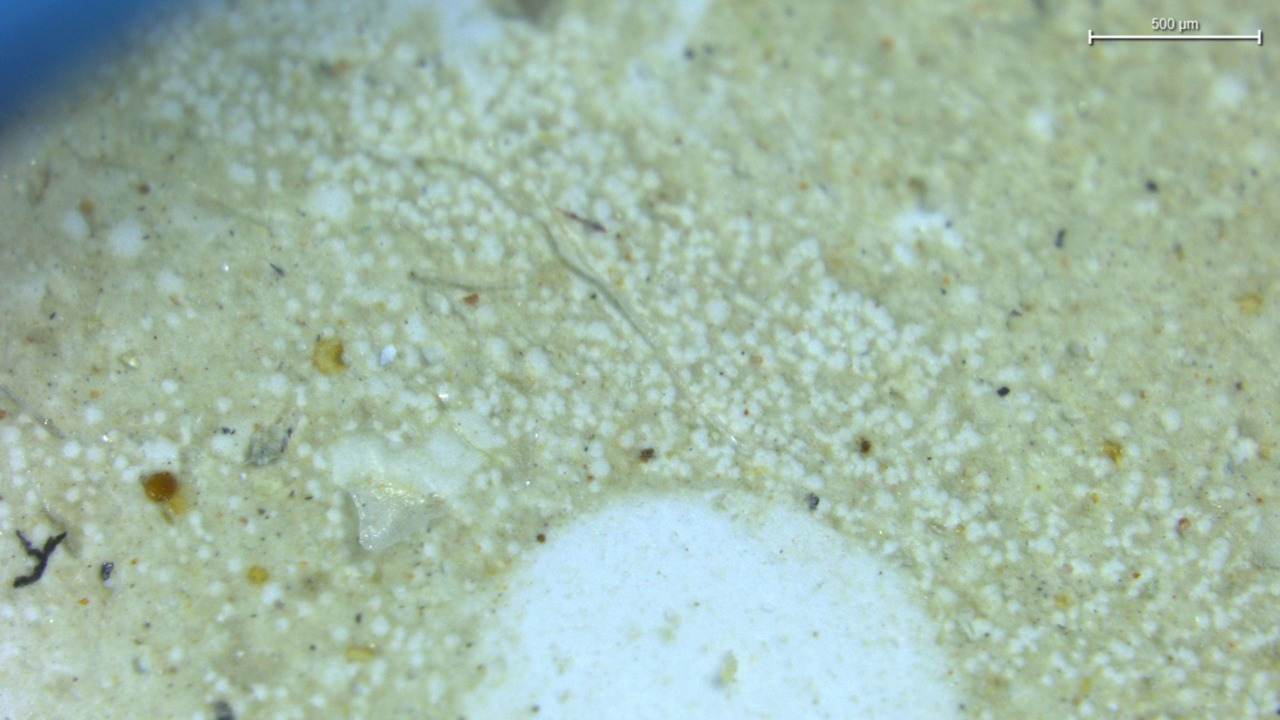microplastic_fragment: (349, 483, 440, 549), (245, 408, 299, 466)
